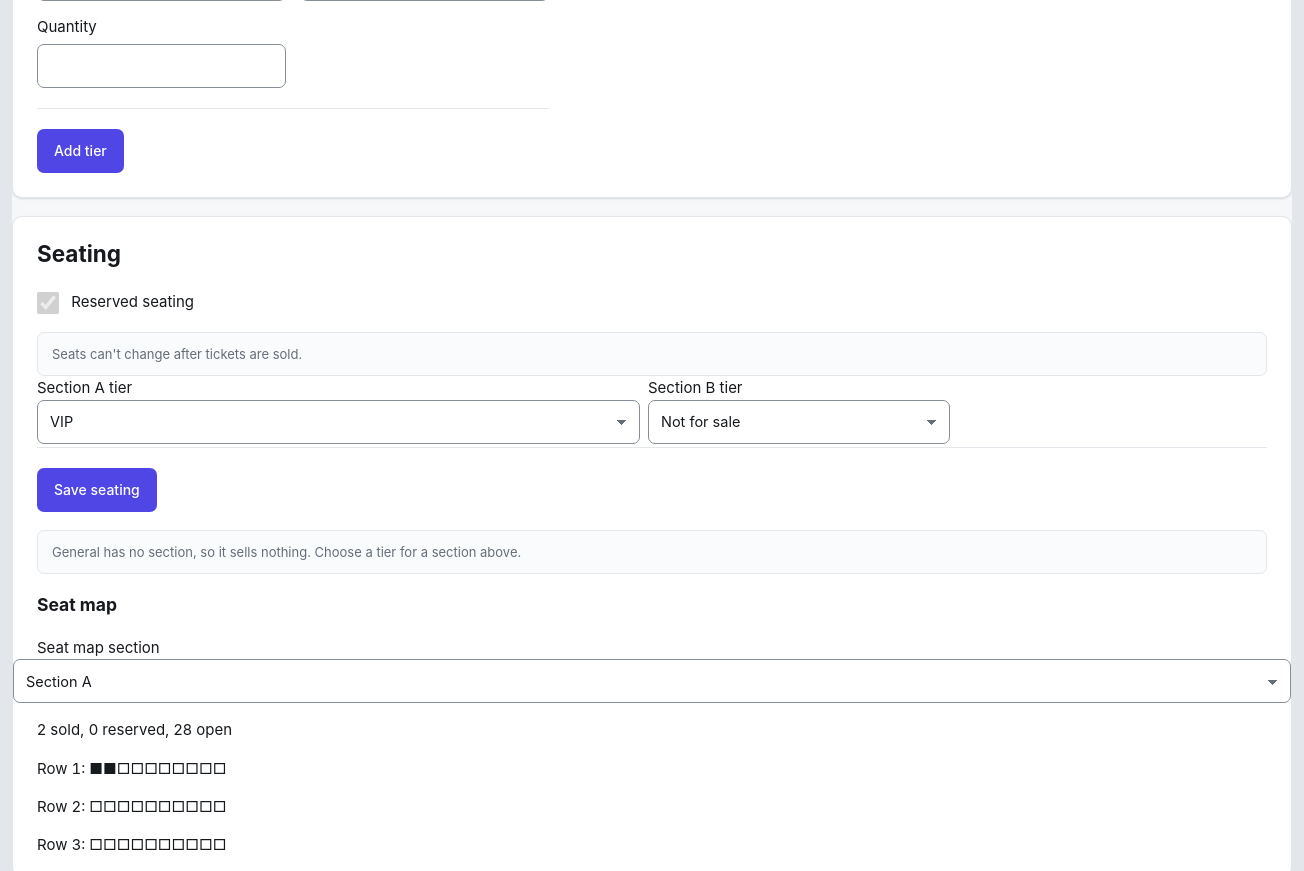
Test: Seating card › shows a refusal in the Backend's words
(page scrolled)
Select "General" in the dropdown labelled "Section A tier" at (338, 422), box [37,400,640,444]
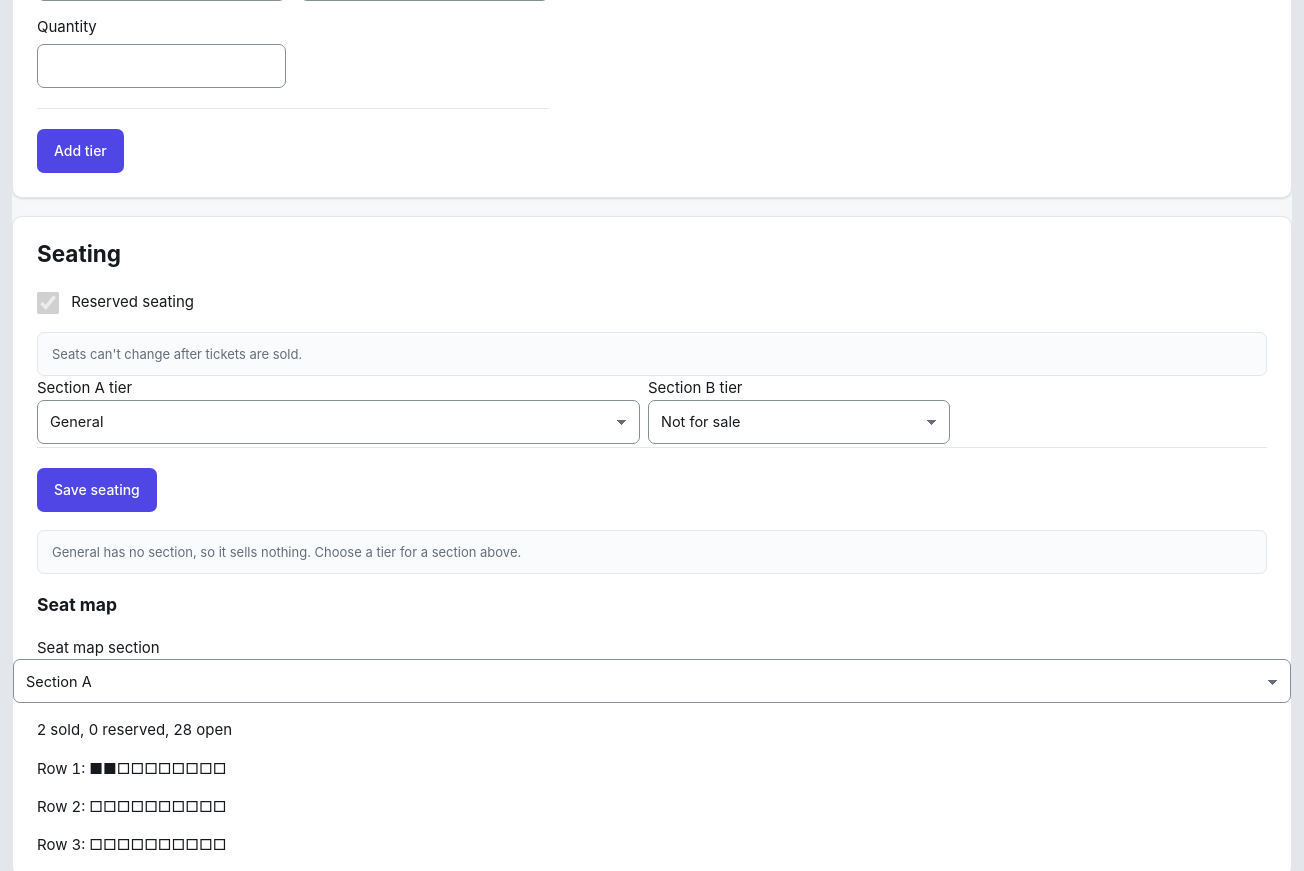
Click the button "Save seating" at (97, 490), box [37,468,157,512]
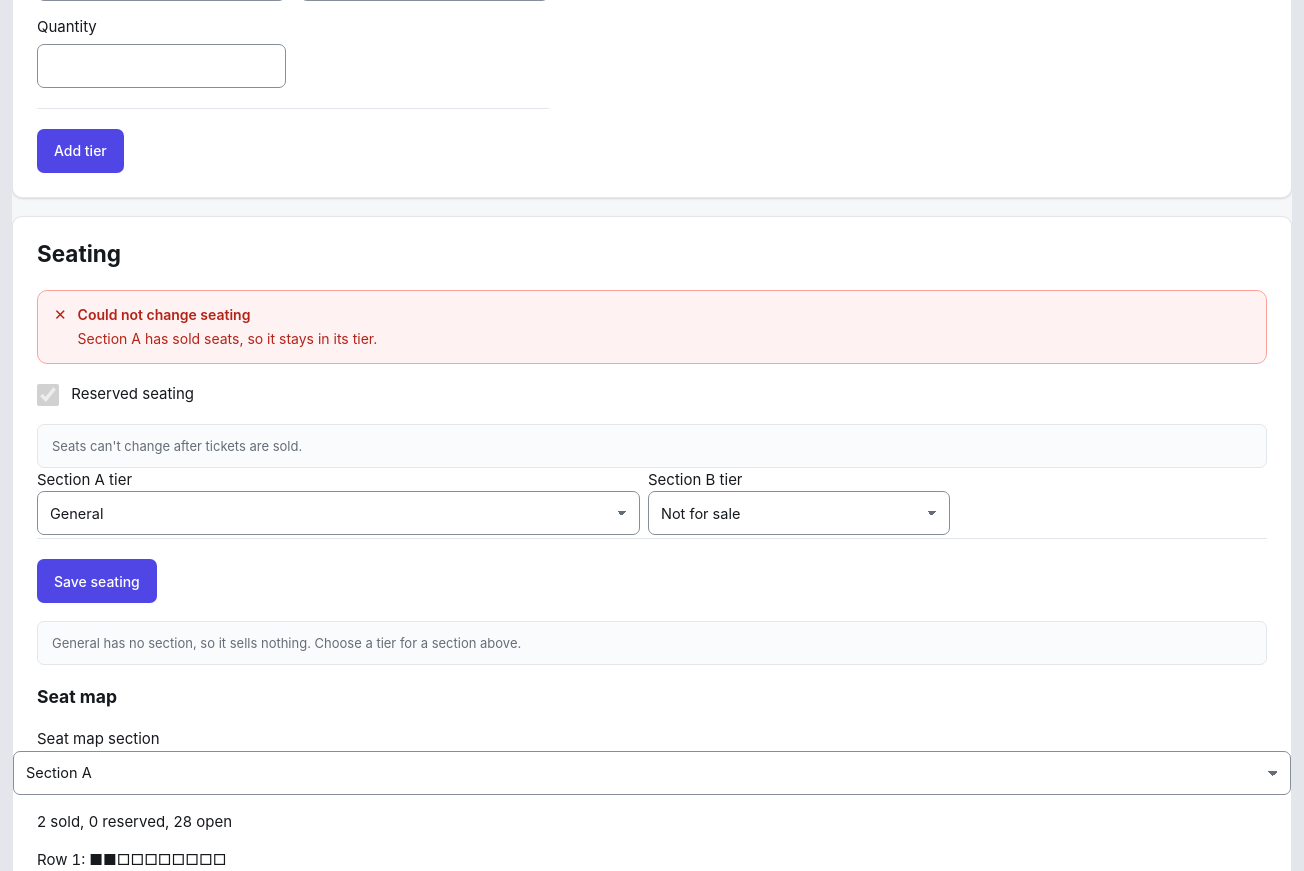
expect the message shows "Section A has sold seats, so it stays in its tier.": met, box [78,330,377,347]
